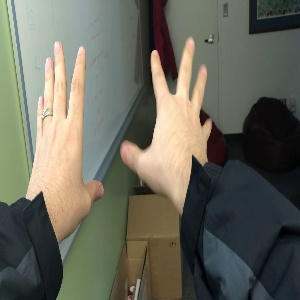hand: (120, 36, 211, 197), (25, 41, 103, 220)
